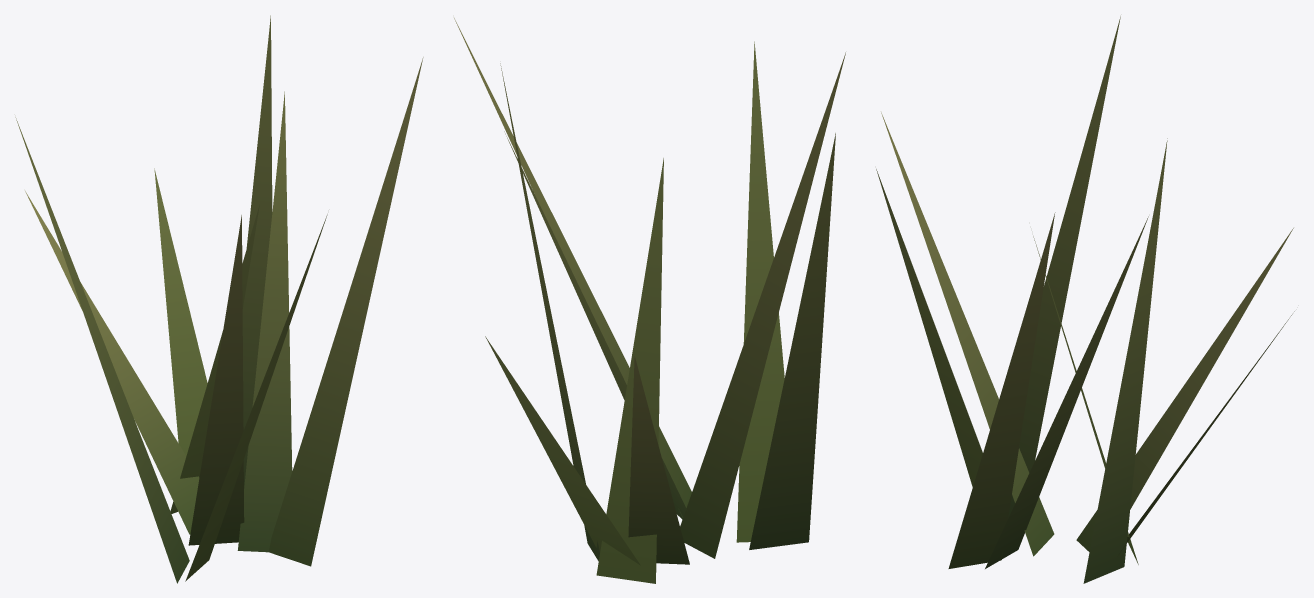
File: env_grass_tuft.glb
3 views of the same model, side by side, from view 1: azimuth 30°, elevation 25°; view 2: azimuth 150°, elevation 25°; view 3: azimuth 270°, elevation 25° (orthographic). The views are drawn at different scales.
Visible parts, largest first — view 1: env_grass_tuft; view 2: env_grass_tuft; view 3: env_grass_tuft.
Boxes of the visible parts, left/top/right/bottom form: env_grass_tuft: left=15, top=15, right=423, bottom=583; env_grass_tuft: left=454, top=18, right=845, bottom=583; env_grass_tuft: left=876, top=16, right=1294, bottom=583.
Size of the model in its own units: 0.5406 by 0.6265 by 0.5185.
